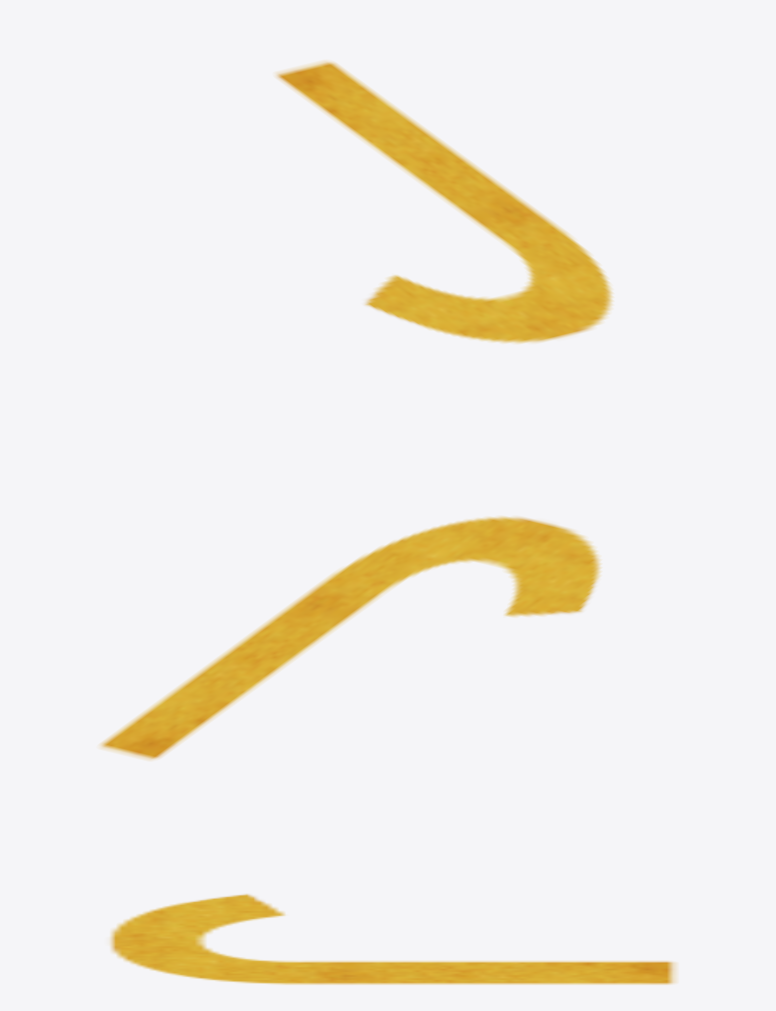
3 renders of one model, top to bottom at view 1: azimuth 30°, elevation 25°; view 2: azimuth 150°, elevation 25°; view 3: azimuth 270°, elevation 25°, orthographic. The views are drawn at different scales.
Visible parts, largest first — view 1: yJ; view 2: yJ; view 3: yJ.
Boxes of the visible parts, x1,y1,x2,y2 form: yJ: (276,61,612,343); yJ: (100,516,600,759); yJ: (109,893,675,984).
Bounding box in the file's own units: 1.5 × 1.8e-07 × 4.
